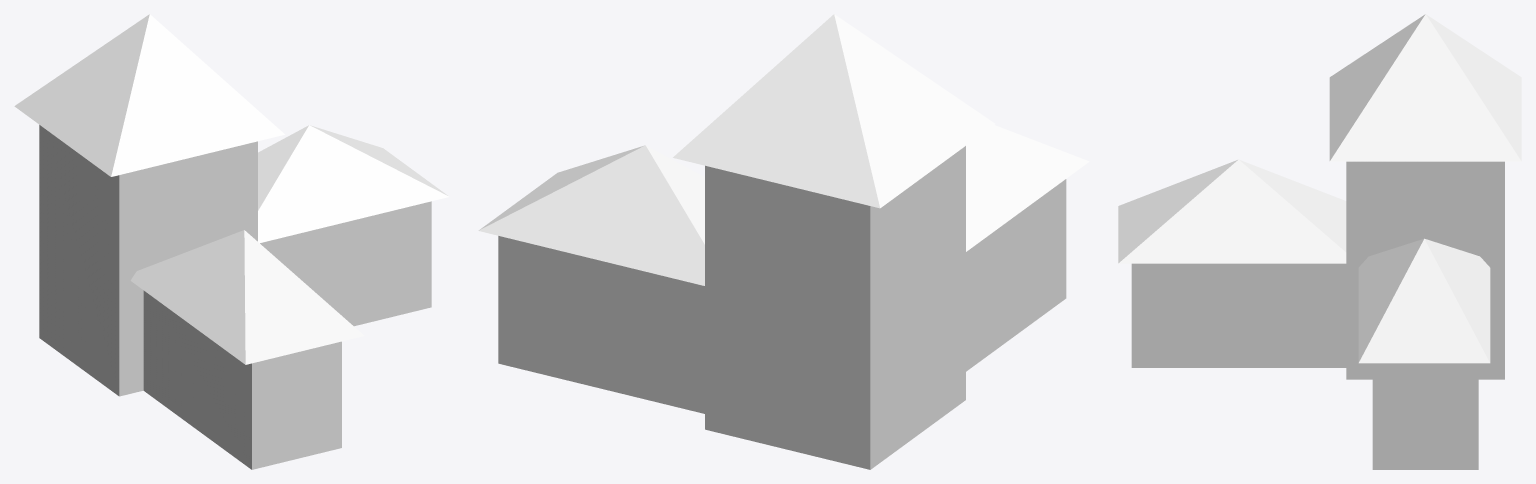
The model's file is MainBuilding.fbx.
The picture shows the model from 3 angles, left to right: view 1: azimuth 30°, elevation 25°; view 2: azimuth 150°, elevation 25°; view 3: azimuth 270°, elevation 25°; orthographic projection. The views are drawn at different scales.
Parts seen in each view (by area): view 1: root (×6); view 2: root (×6); view 3: root (×6).
Boxes of the visible parts, x1=… form: root (×6): x1=14, y1=14, x2=449, y2=469; root (×6): x1=478, y1=14, x2=1089, y2=469; root (×6): x1=1118, y1=14, x2=1521, y2=469.
Size of the model in its own units: 0.6599 by 0.6 by 0.659.
Materials: 4 (1 with a texture image).
